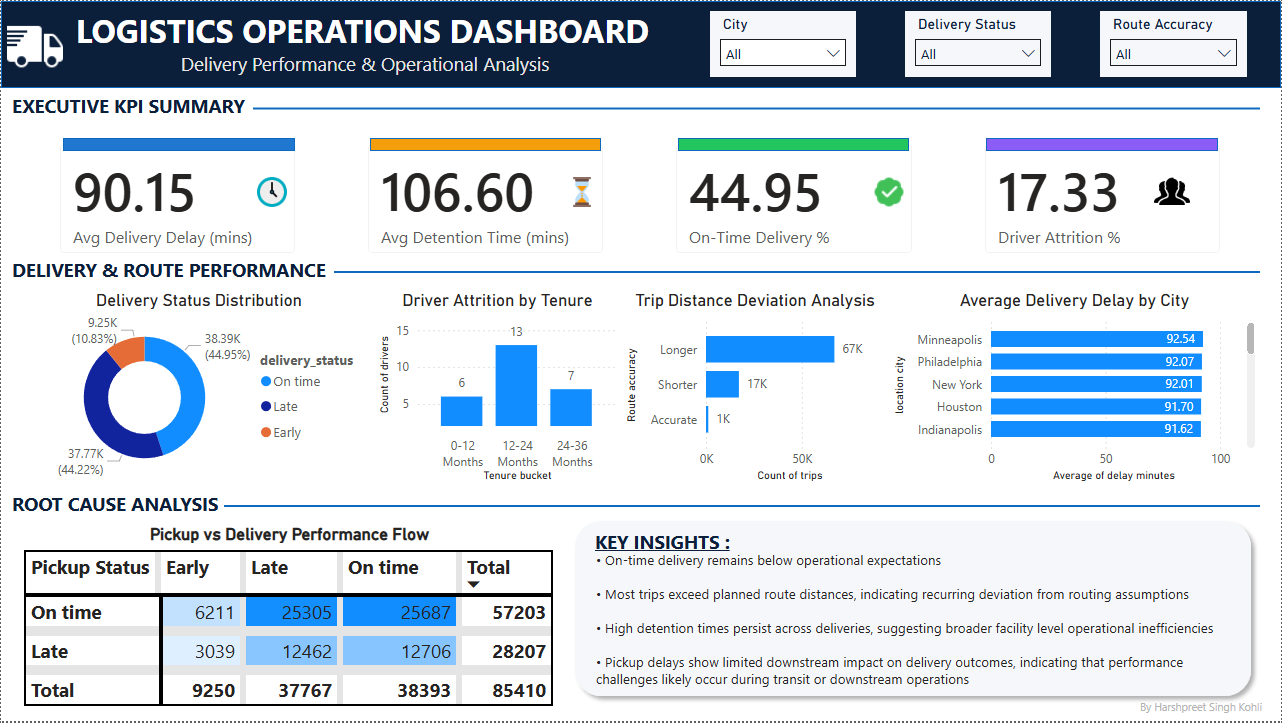

The page's visual inventory and layout, read from the dashboard file:
{"tool":"powerbi","page":{"name":"Page 1","canvas":[1280,720],"ordinal":0},"visuals":[{"type":"cardVisual","fields":{"Data":["Avg(delivery_performance csv.delay_minutes)"]},"box":[41.8,126.4,269,143],"z":0},{"type":"cardVisual","fields":{"Data":["Avg(delivery_performance csv.detention_minutes)"]},"box":[350,126.4,269,143],"z":1000},{"type":"cardVisual","fields":{"Data":["delivery_performance csv.On_Time_Delivery_Rate"]},"box":[658.2,126.4,269.4,143],"z":2000},{"type":"cardVisual","fields":{"Data":["delivery_performance csv.Driver_Attrition_Rate"]},"box":[966.8,126.4,269,143],"z":3000},{"type":"donutChart","title":"Delivery Status Distribution","fields":{"Category":["delivery_performance csv.delivery_status"],"Y":["CountNonNull(delivery_performance csv.trip_id)"]},"box":[23.3,288.9,349.2,196.5],"z":4000},{"type":"clusteredBarChart","title":"Trip Distance Deviation Analysis","fields":{"Y":["CountNonNull(route_analysis csv.trip_id)"],"Category":["route_analysis csv.route_accuracy (groups)"]},"box":[619.6,288.9,268.4,196.5],"z":5000},{"type":"clusteredBarChart","title":"Average Delivery Delay by City","fields":{"Category":["delivery_performance csv.location_city"],"Y":["Avg(delivery_performance csv.delay_minutes)"]},"box":[888,288.9,370.6,196.5],"z":6000},{"type":"pivotTable","title":"Pickup vs Delivery Performance Flow","fields":{"Rows":["pickup_delivery csv.pickup_status"],"Columns":["pickup_delivery csv.delivery_status"],"Values":["CountNonNull(pickup_delivery csv.trip_id)"]},"box":[17.5,523.3,541.8,188.7],"z":7000},{"type":"clusteredColumnChart","title":"Driver Attrition by Tenure","fields":{"Category":["driver csv.tenure_bucket"],"Y":["CountNonNull(driver csv.driver_id)"]},"box":[372.5,288.9,247.1,196.5],"z":8000},{"type":"shape","box":[0,0,1280,86.6],"z":9000},{"type":"textbox","box":[70,1.9,588.4,83.6],"z":10000},{"type":"textbox","box":[5.8,86.6,246.1,42.8],"z":11000},{"type":"shape","box":[251.9,99.2,1006.7,16.5],"z":12000},{"type":"textbox","box":[5.8,250.9,326.8,36],"z":13000},{"type":"shape","box":[332.6,262.6,926,16.5],"z":14000},{"type":"textbox","box":[5.8,485.3,225.7,37.9],"z":15000},{"type":"shape","box":[222.7,499,1035.9,11.7],"z":16000},{"type":"image","box":[251.9,173.1,37,36],"z":17000},{"type":"image","box":[556.4,173.1,48.6,36],"z":18000},{"type":"image","box":[866.6,173.1,41.8,36],"z":19000},{"type":"image","box":[1144.8,173.1,51.6,36],"z":20000},{"type":"slicer","fields":{"Values":["delivery_performance csv.location_city"]},"box":[709.1,9.7,146,66.1],"z":21000},{"type":"slicer","fields":{"Values":["delivery_performance csv.delivery_status"]},"box":[904,9.7,146,66.1],"z":22000},{"type":"slicer","fields":{"Values":["route_analysis csv.route_accuracy (groups)"]},"box":[1099.1,9.7,146.9,66],"z":23000},{"type":"shape","box":[565.1,510.6,693.5,193.6],"z":23001},{"type":"textbox","box":[589.4,523.3,203.3,35],"z":23002},{"type":"textbox","box":[590.4,544.7,655.6,145.9],"z":23003},{"type":"image","box":[5.8,12.6,56.4,61.3],"z":23004},{"type":"shape","box":[62.2,137.1,231.5,12.6],"z":23005},{"type":"shape","box":[368.6,137.1,231.5,12.6],"z":23006},{"type":"shape","box":[677,137.1,231.5,12.6],"z":23007},{"type":"shape","box":[985.3,137.1,231.5,12.6],"z":23008},{"type":"textbox","box":[1134.1,690.6,141,29.2],"z":23009}]}

Visuals, with their boxes in screenshot pixels (x1, y1, x2, y2), scaled from the page's 1280x720 canvas onto the 1282x723 screenshot:
cardVisual - Avg(delivery_performance csv.delay_minutes): (x1=42, y1=127, x2=311, y2=271)
cardVisual - Avg(delivery_performance csv.detention_minutes): (x1=351, y1=127, x2=620, y2=271)
cardVisual - delivery_performance csv.On_Time_Delivery_Rate: (x1=659, y1=127, x2=929, y2=271)
cardVisual - delivery_performance csv.Driver_Attrition_Rate: (x1=968, y1=127, x2=1238, y2=271)
"Delivery Status Distribution" donutChart: (x1=23, y1=290, x2=373, y2=487)
"Trip Distance Deviation Analysis" clusteredBarChart: (x1=621, y1=290, x2=889, y2=487)
"Average Delivery Delay by City" clusteredBarChart: (x1=889, y1=290, x2=1261, y2=487)
"Pickup vs Delivery Performance Flow" pivotTable: (x1=18, y1=525, x2=560, y2=715)
"Driver Attrition by Tenure" clusteredColumnChart: (x1=373, y1=290, x2=621, y2=487)
shape: (x1=0, y1=0, x2=1281, y2=87)
textbox: (x1=70, y1=2, x2=659, y2=86)
textbox: (x1=6, y1=87, x2=252, y2=130)
shape: (x1=252, y1=100, x2=1261, y2=116)
textbox: (x1=6, y1=252, x2=333, y2=288)
shape: (x1=333, y1=264, x2=1261, y2=280)
textbox: (x1=6, y1=487, x2=232, y2=525)
shape: (x1=223, y1=501, x2=1261, y2=513)
image: (x1=252, y1=174, x2=289, y2=210)
image: (x1=557, y1=174, x2=606, y2=210)
image: (x1=868, y1=174, x2=910, y2=210)
image: (x1=1147, y1=174, x2=1198, y2=210)
slicer - delivery_performance csv.location_city: (x1=710, y1=10, x2=856, y2=76)
slicer - delivery_performance csv.delivery_status: (x1=905, y1=10, x2=1052, y2=76)
slicer - route_analysis csv.route_accuracy (groups): (x1=1101, y1=10, x2=1248, y2=76)
shape: (x1=566, y1=513, x2=1261, y2=707)
textbox: (x1=590, y1=525, x2=794, y2=561)
textbox: (x1=591, y1=547, x2=1248, y2=693)
image: (x1=6, y1=13, x2=62, y2=74)
shape: (x1=62, y1=138, x2=294, y2=150)
shape: (x1=369, y1=138, x2=601, y2=150)
shape: (x1=678, y1=138, x2=910, y2=150)
shape: (x1=987, y1=138, x2=1219, y2=150)
textbox: (x1=1136, y1=693, x2=1277, y2=722)
